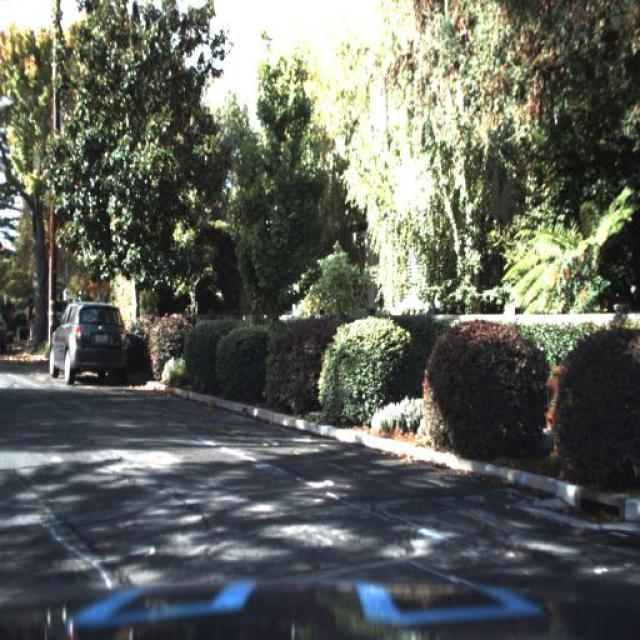car: (41, 280, 150, 400)
